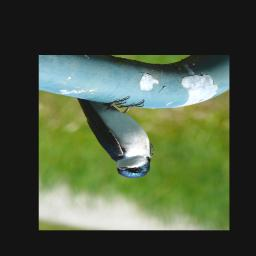Swallow: (77, 95, 156, 179)
